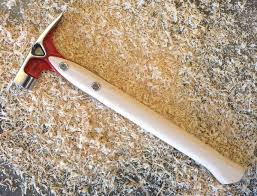hammer: (9, 10, 109, 108)
